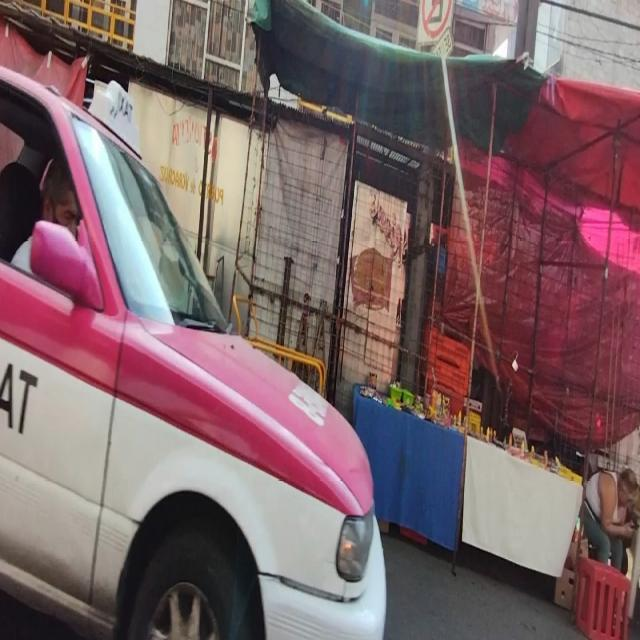adult: (11, 157, 78, 273), (582, 464, 639, 570)
